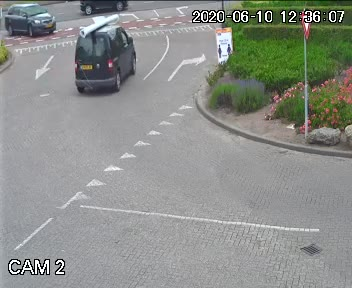car: (68, 23, 137, 101), (3, 3, 61, 40), (77, 0, 126, 17)
